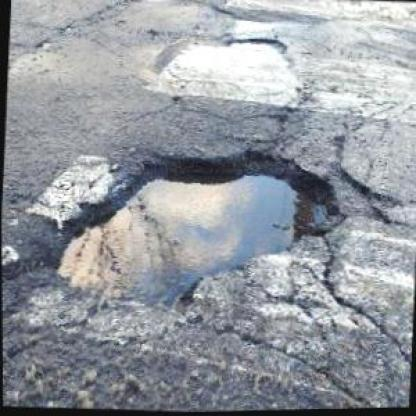pothole: (49, 134, 345, 322), (225, 31, 291, 54)
